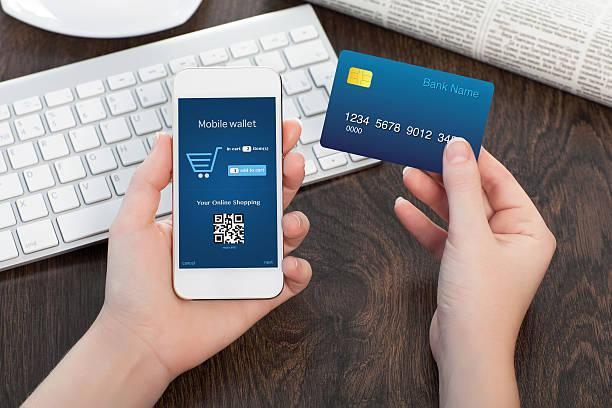Finder pattern: (211, 211, 227, 226), (211, 231, 226, 246), (232, 211, 247, 225)
